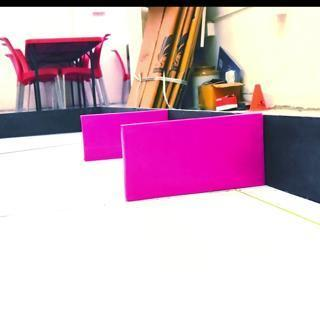xparking: (124, 126, 264, 192), (83, 114, 119, 160)
